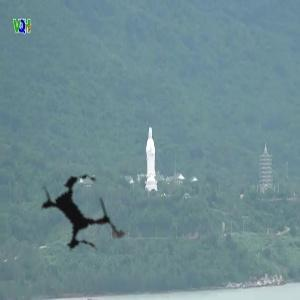drone: (12, 142, 153, 283)
